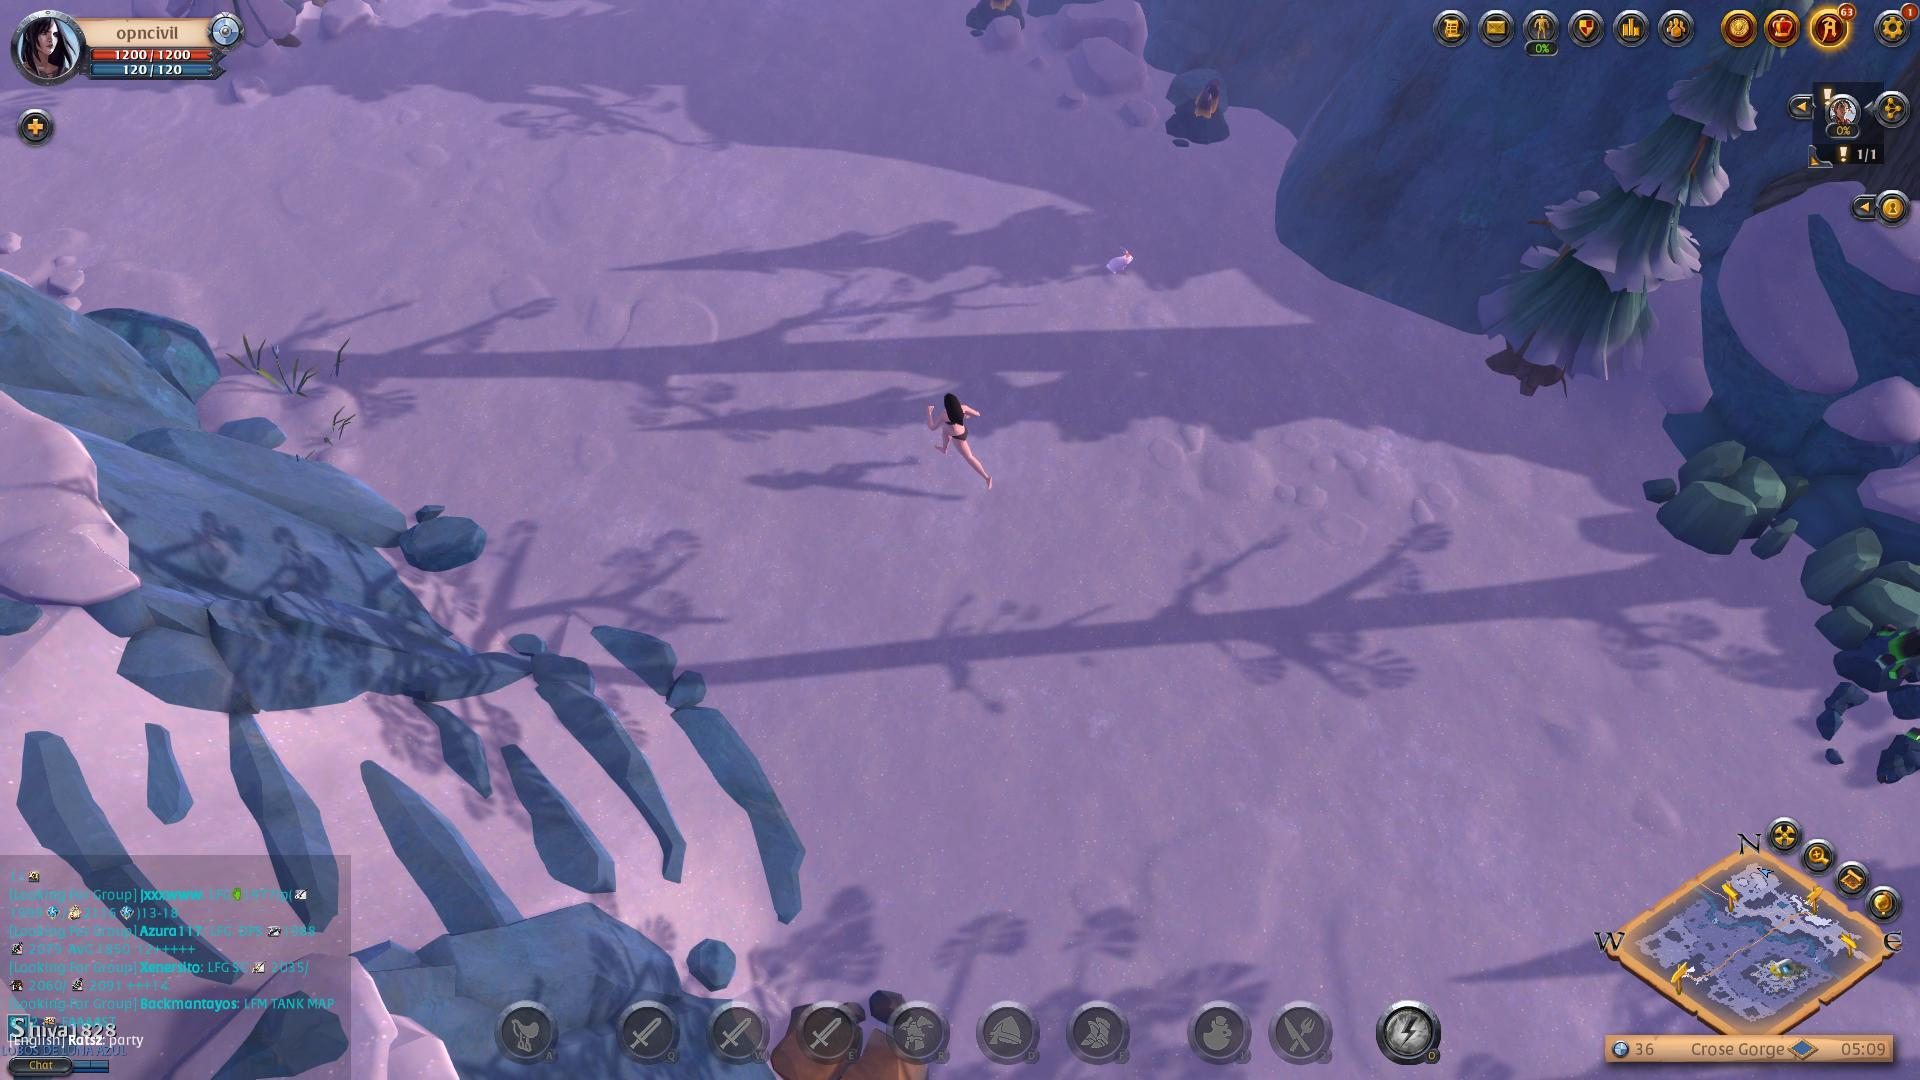copper_ore: (1159, 67, 1245, 167)
sandstone: (1651, 429, 1815, 571)
